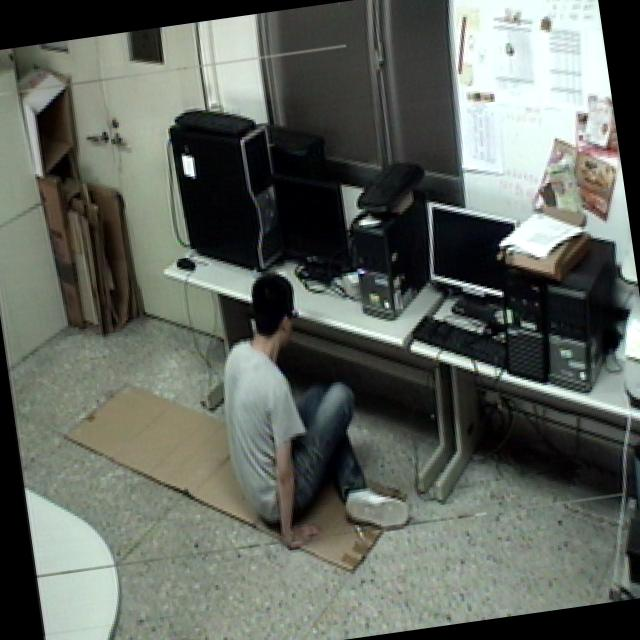sit: (189, 255, 420, 568)
